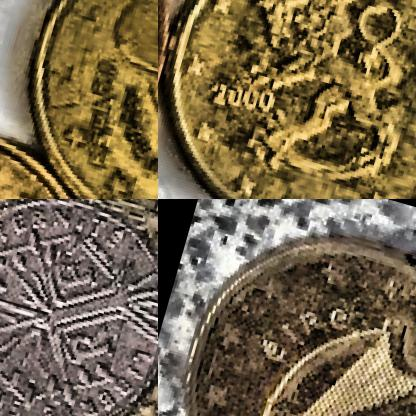coin: (158, 203, 415, 415), (158, 0, 415, 198), (0, 199, 157, 415), (0, 0, 157, 198)
